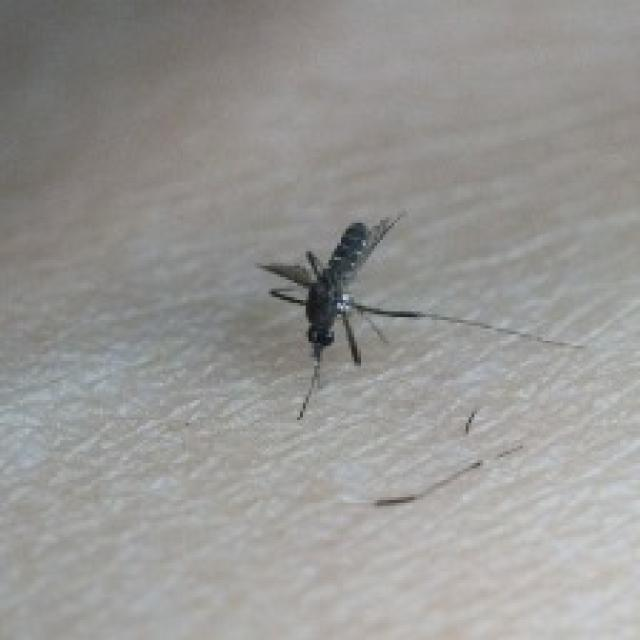aedes: (251, 206, 580, 423)
